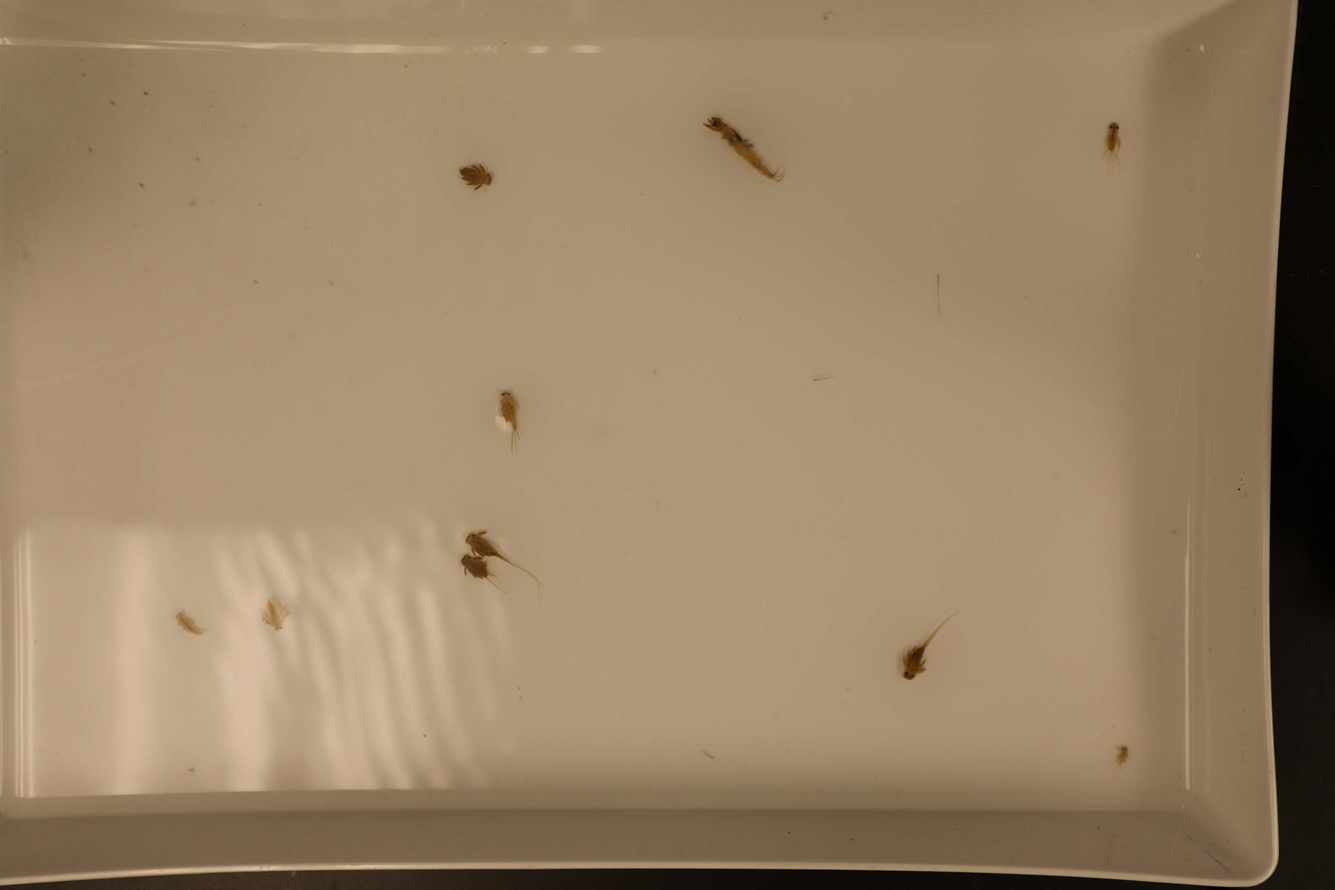Mayfly: (702, 116, 784, 183), (898, 606, 956, 690), (462, 532, 532, 575), (459, 555, 509, 606), (497, 390, 530, 451), (452, 157, 500, 195), (256, 596, 292, 636), (1103, 119, 1123, 168), (167, 613, 206, 637), (1115, 743, 1129, 768)
